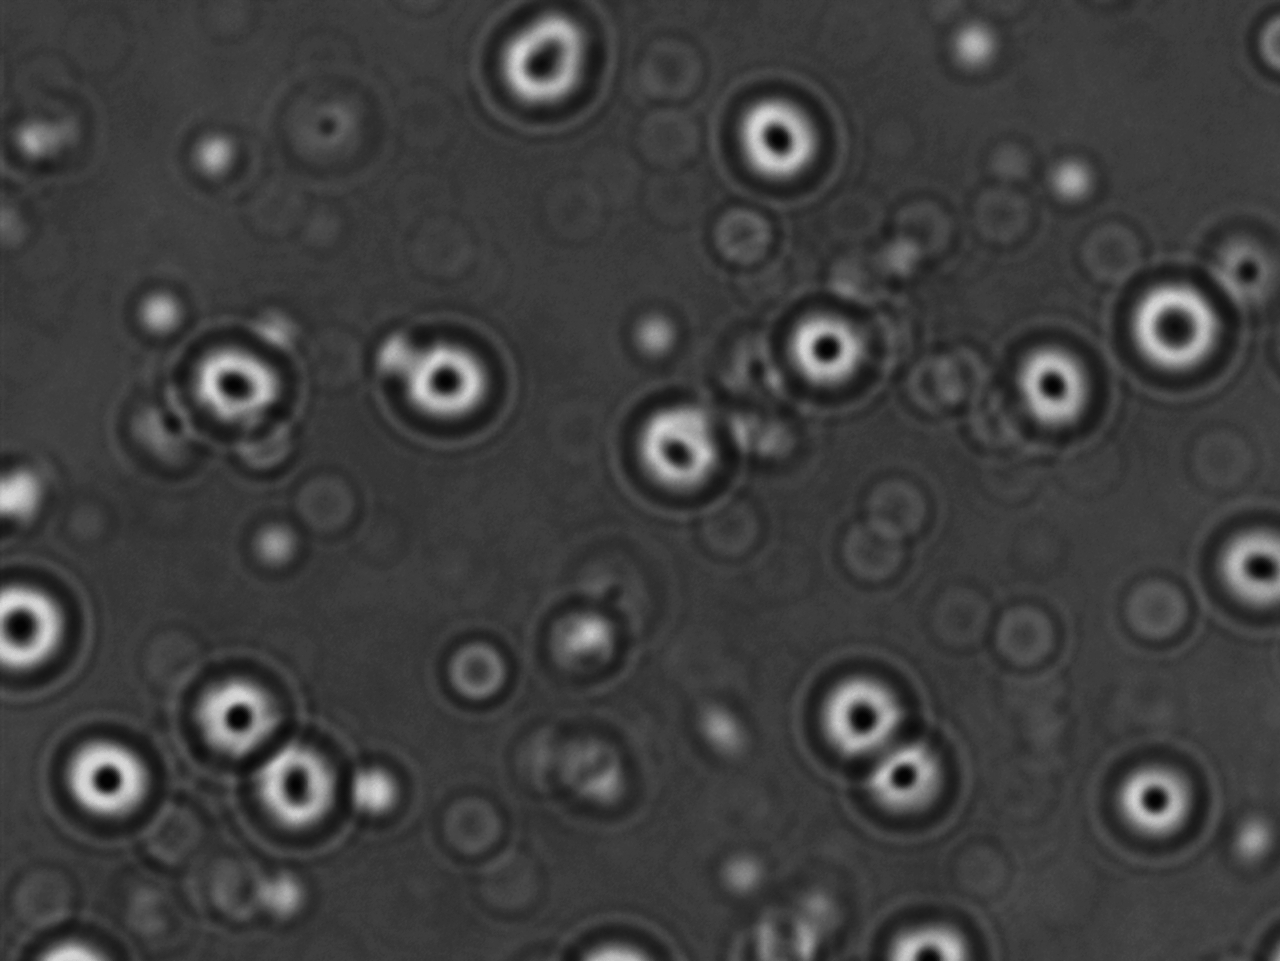depth:16: (380, 319, 516, 450), (702, 69, 836, 201), (616, 386, 746, 519), (1113, 257, 1243, 390), (797, 645, 929, 768), (475, 0, 603, 125), (43, 720, 173, 841), (236, 725, 358, 847), (1097, 742, 1225, 857), (176, 323, 301, 440), (847, 720, 972, 835), (769, 289, 885, 408), (174, 653, 292, 769), (995, 326, 1108, 446), (1195, 505, 1280, 623)
